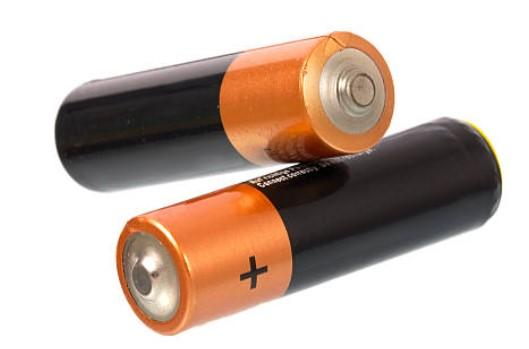Battery: (116, 118, 502, 335), (55, 31, 395, 190)
